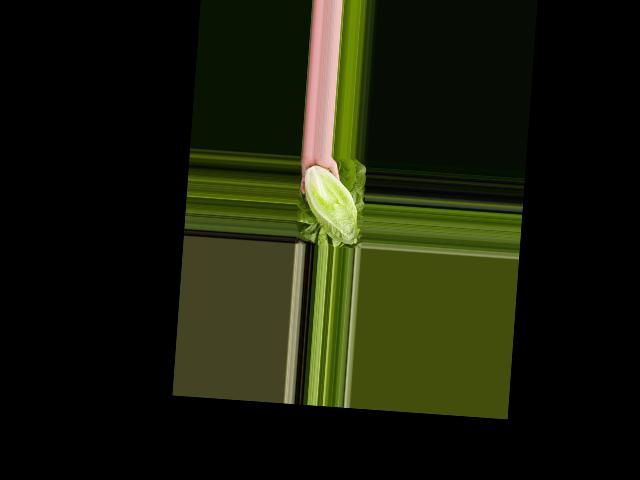lettuce: (298, 163, 362, 245)
